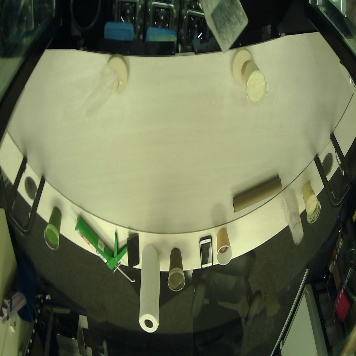coffee_cup: (215, 227, 233, 265)
empty_cup: (281, 189, 304, 246)
full_cup: (241, 61, 268, 105), (42, 205, 62, 252), (301, 180, 322, 224), (167, 247, 185, 292)
puck: (231, 47, 254, 85), (107, 55, 129, 93)
